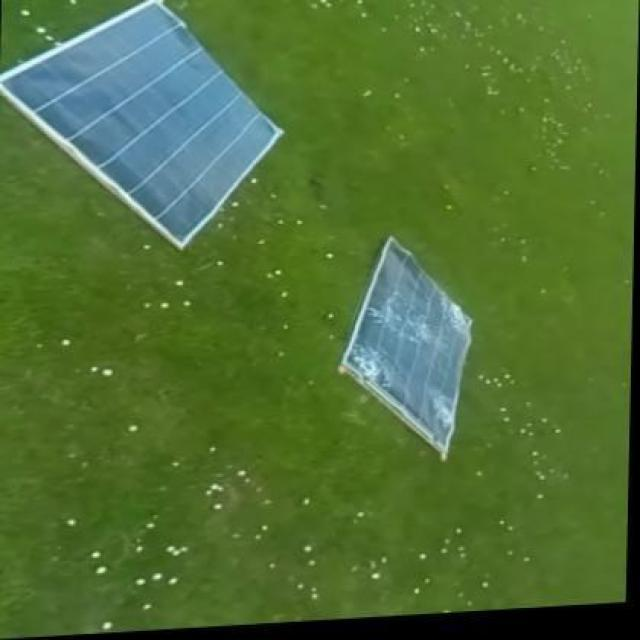cracked: (340, 227, 478, 462)
